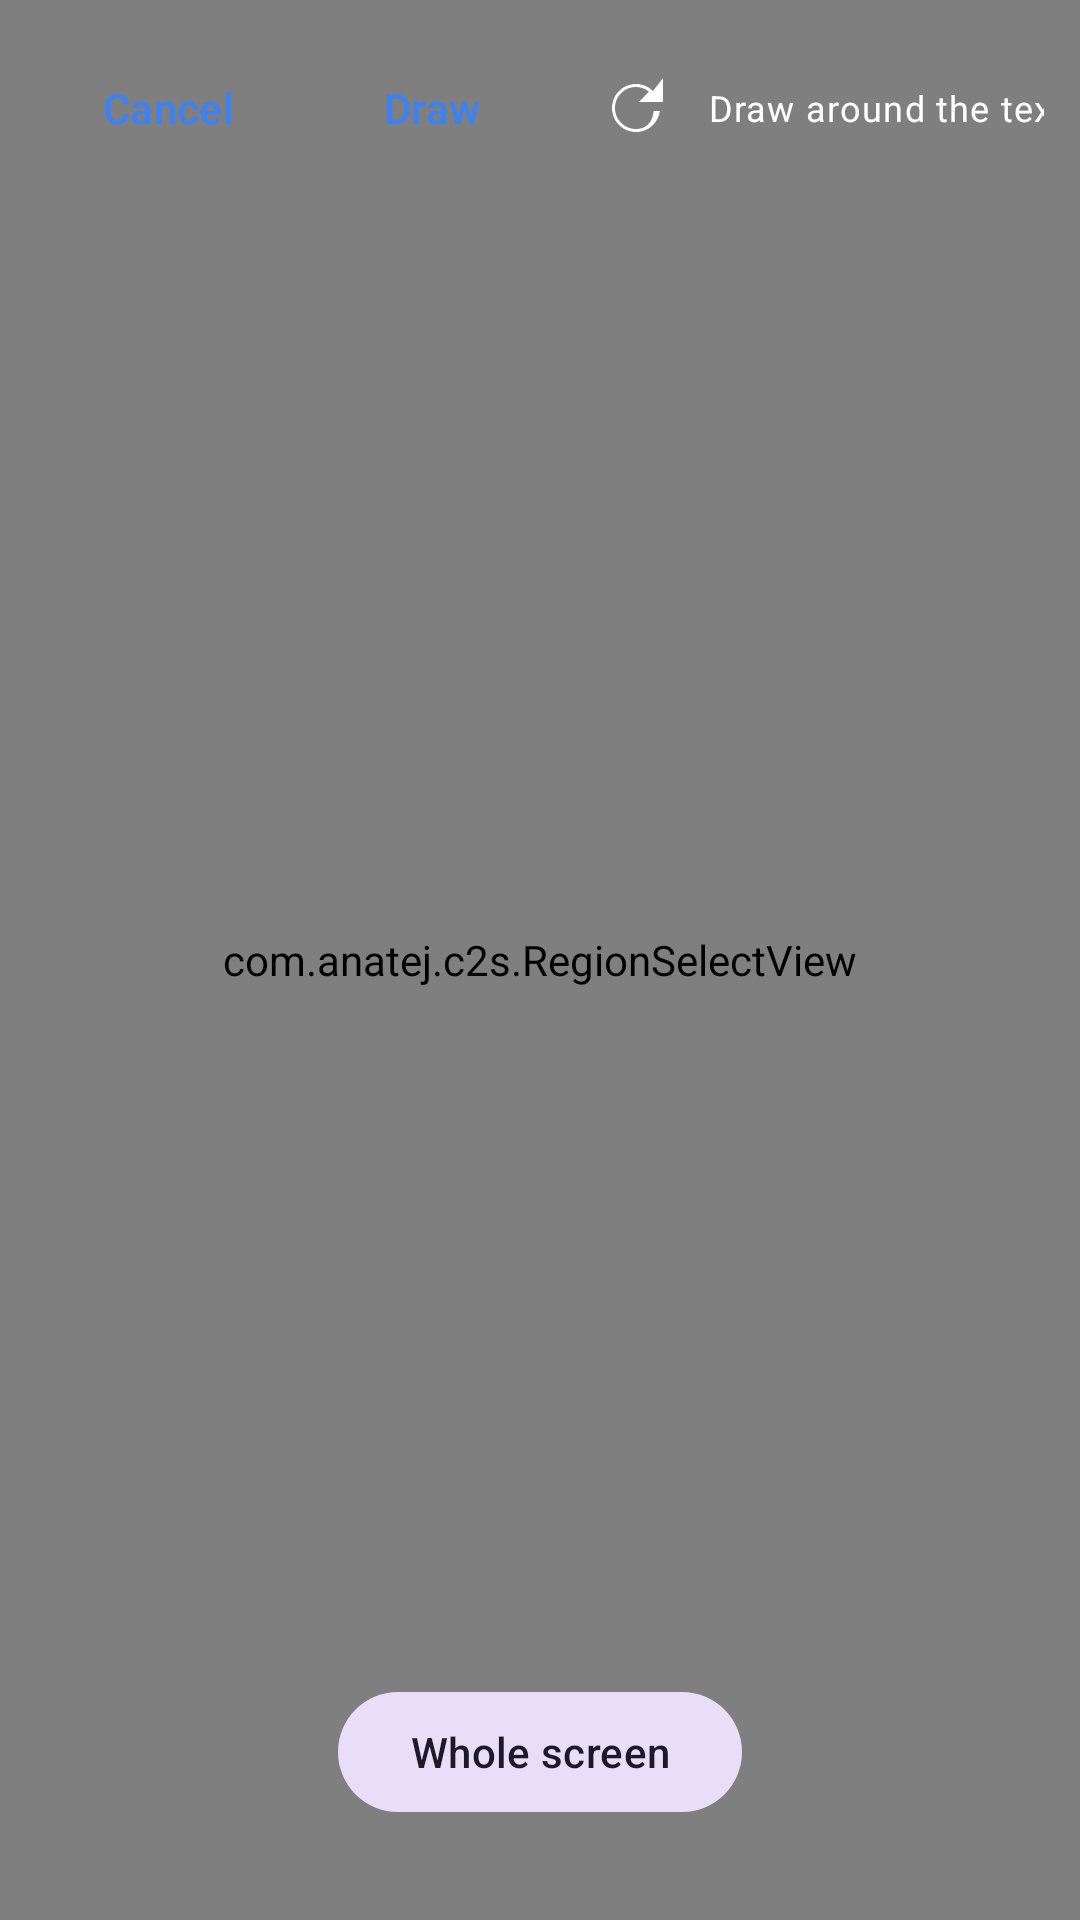

Icon bounding boxes for this 1080x1920 phone screenshot, format [left=x1, top=y1, right=x2, bottom=y2]:
Rotate 90 degrees: [left=612, top=78, right=663, bottom=132]
